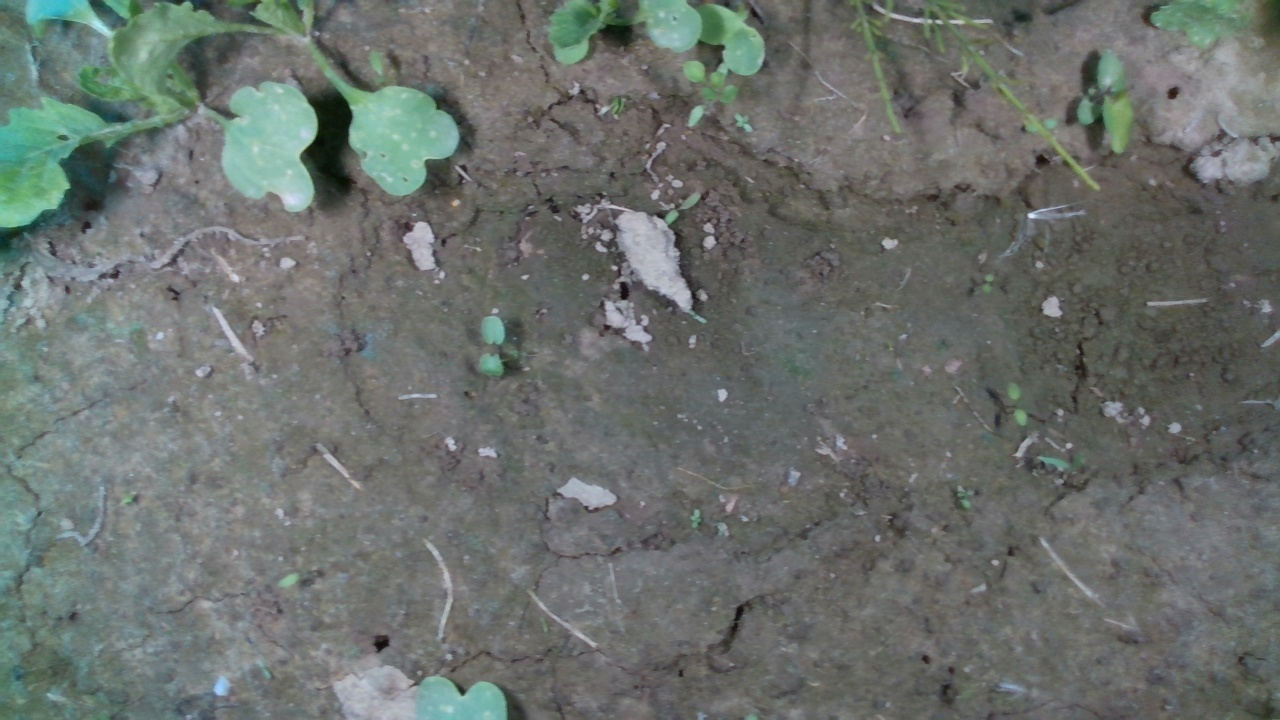weed: (476, 311, 507, 381), (663, 190, 702, 226), (1006, 379, 1029, 428), (733, 111, 756, 135), (688, 507, 701, 529), (983, 272, 993, 294)
